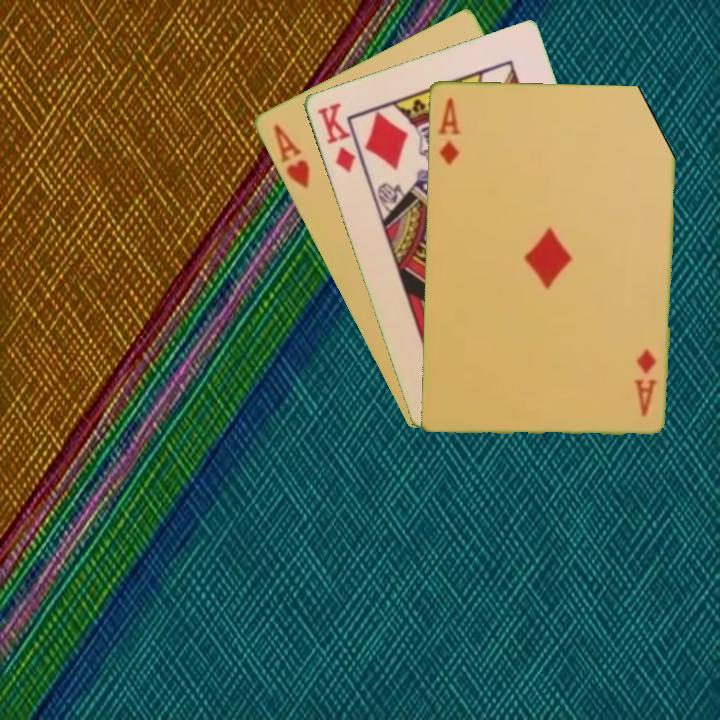Ad: (630, 345, 659, 419), (435, 93, 463, 168)
Ah: (269, 120, 312, 192)
Kd: (313, 99, 358, 176)
